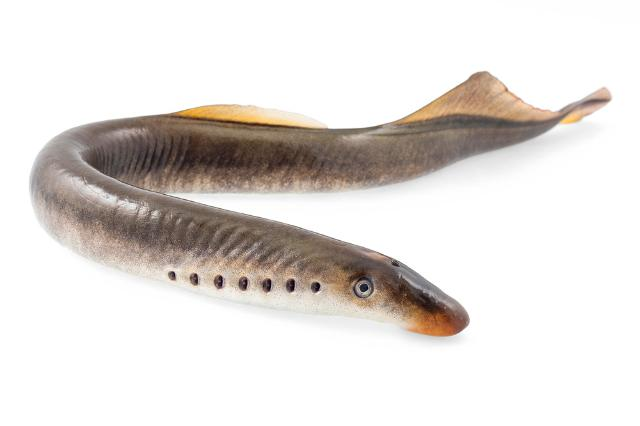Sirip Ekor: (483, 52, 623, 156)
